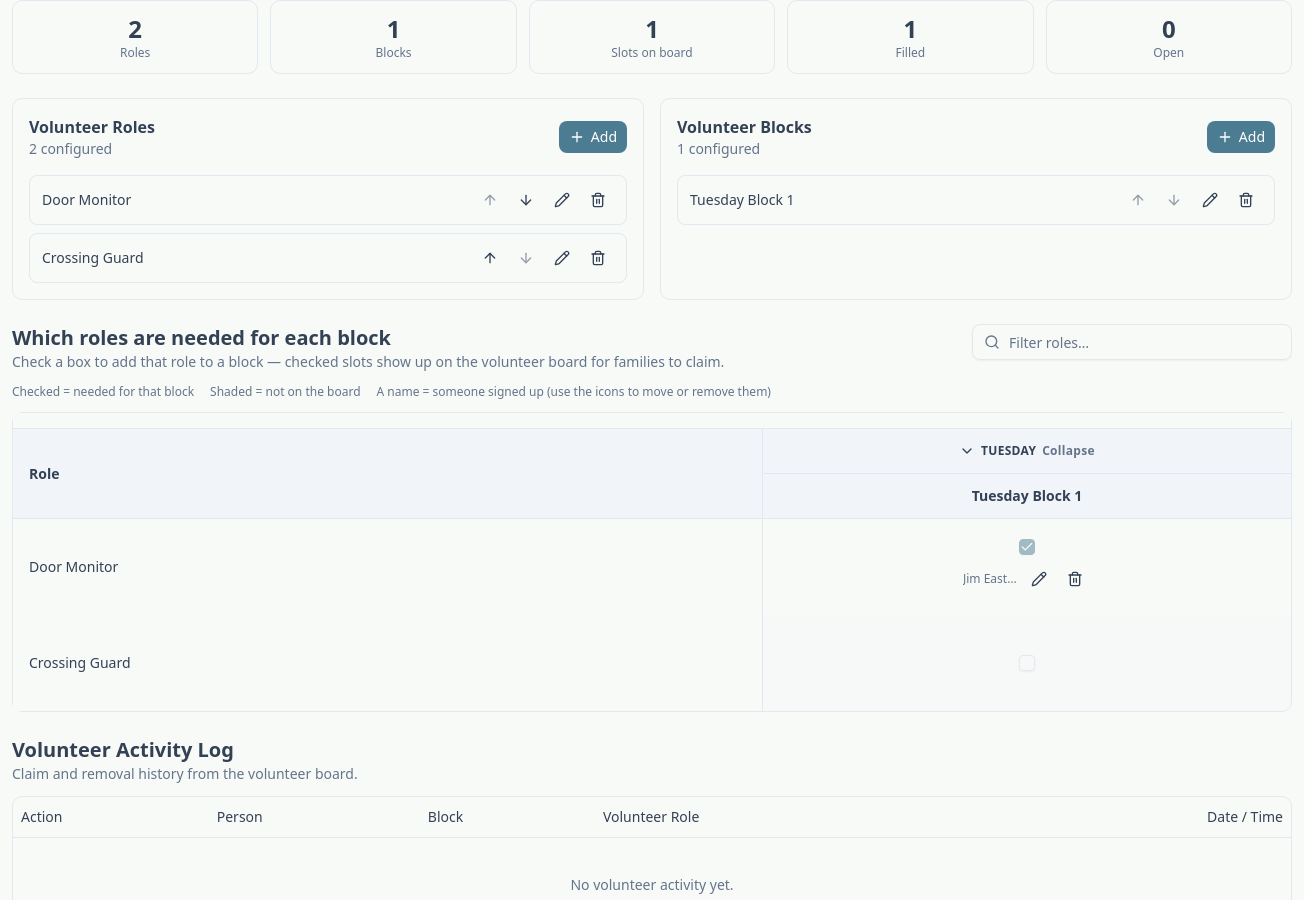
Test: AdminVolunteerConfig overview and filtering › filters the matrix rows by role name and shows an empty state
Expected: the column heading "Door Monitor" is shown, [13,519,762,615]
Expected: the column heading "Crossing Guard" is shown, [13,615,762,711]
Type "door" into the field labelled "Filter roles" at (1132, 342), box [972,324,1292,360]
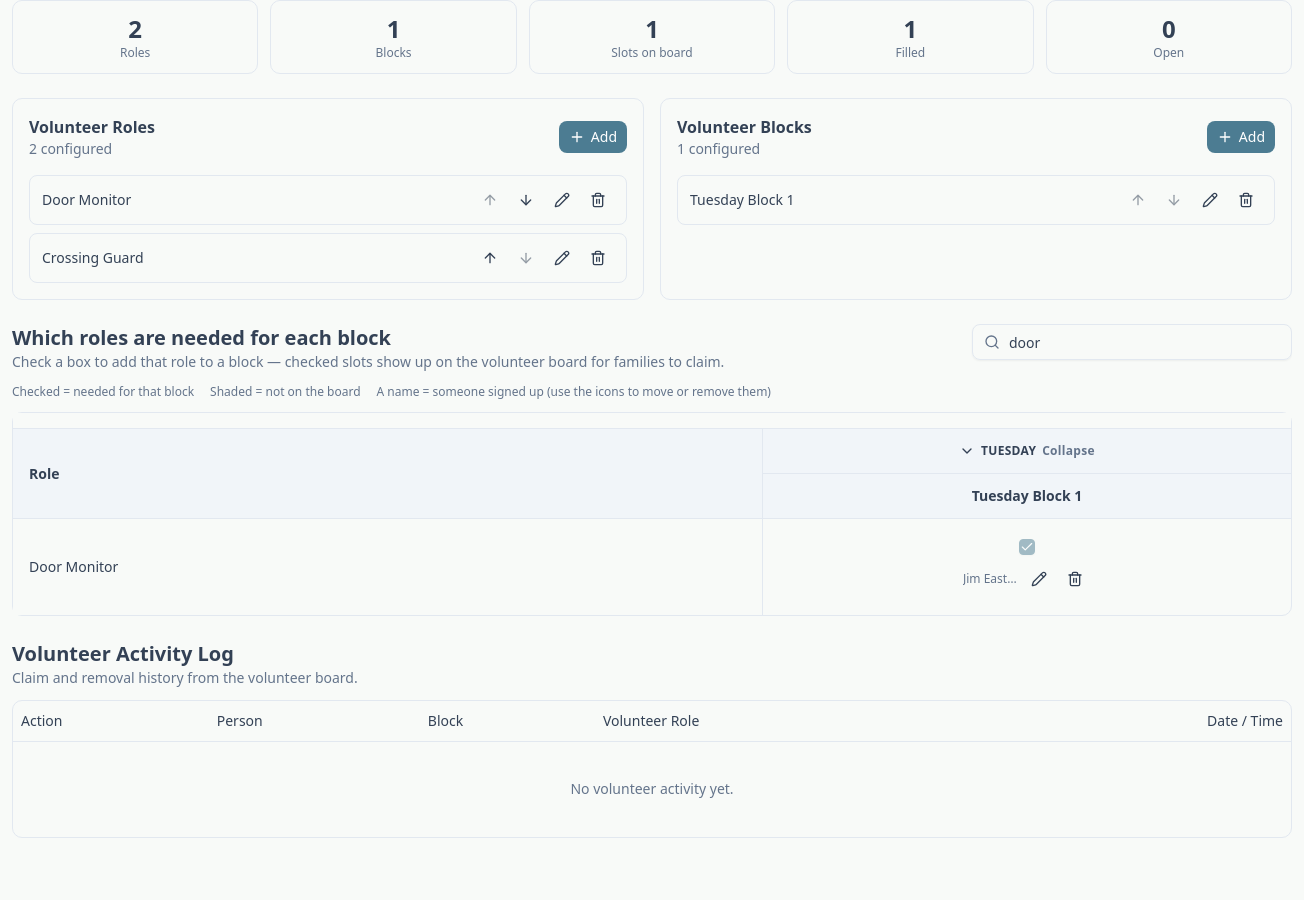
Expected: the column heading "Door Monitor" is shown, [13,519,762,615]
Replace the text in the field named "Filter roles" with "zzz" at (1132, 342), box [972,324,1292,360]
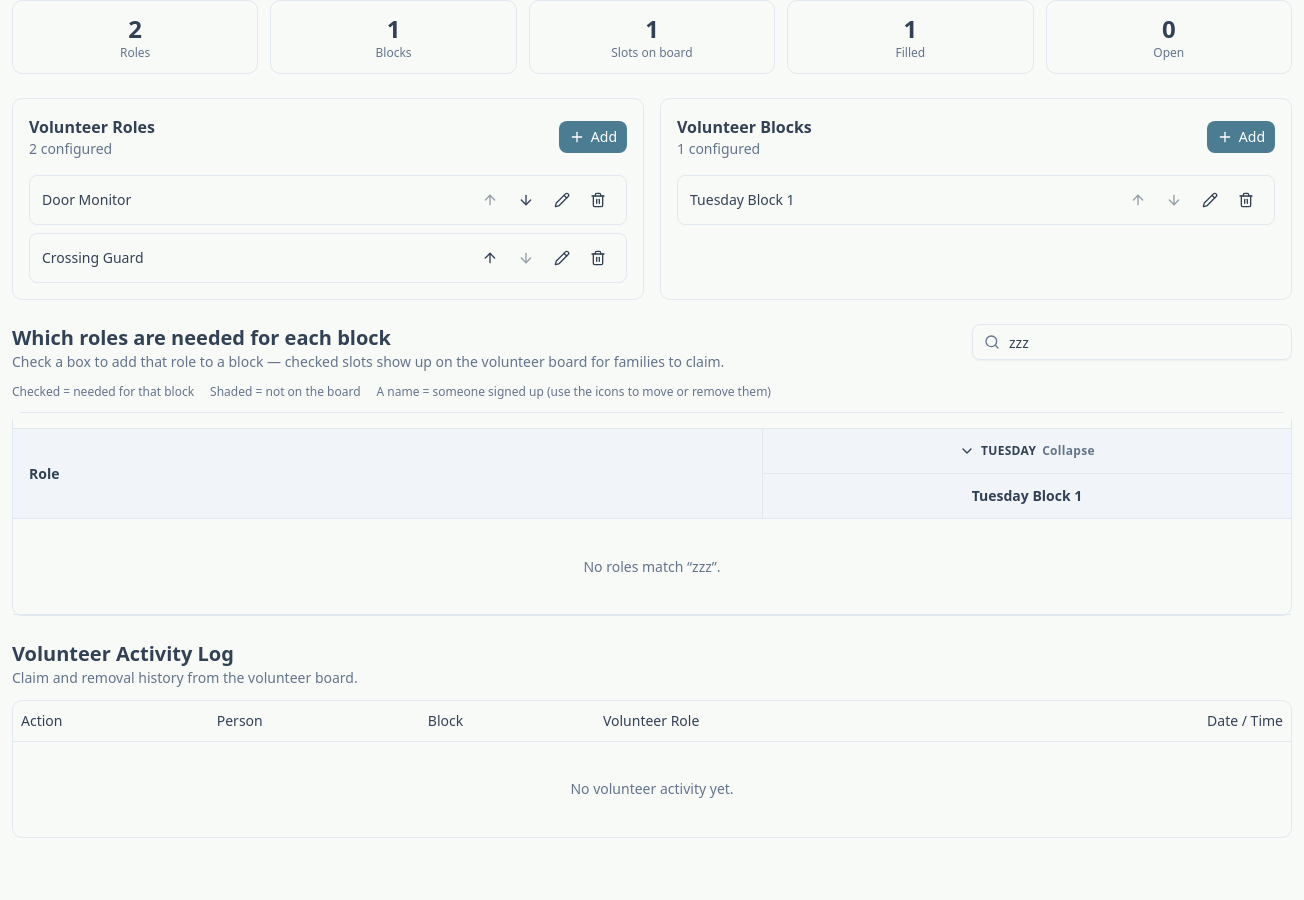
Expected: the text "No roles match “zzz”." is shown, [13,519,1291,615]
